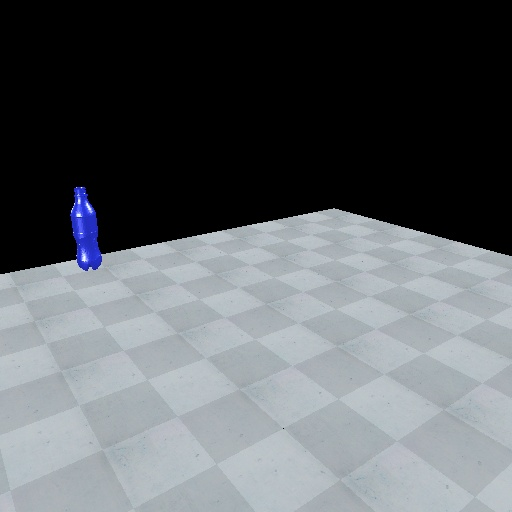bottle: (65, 185, 104, 273)
